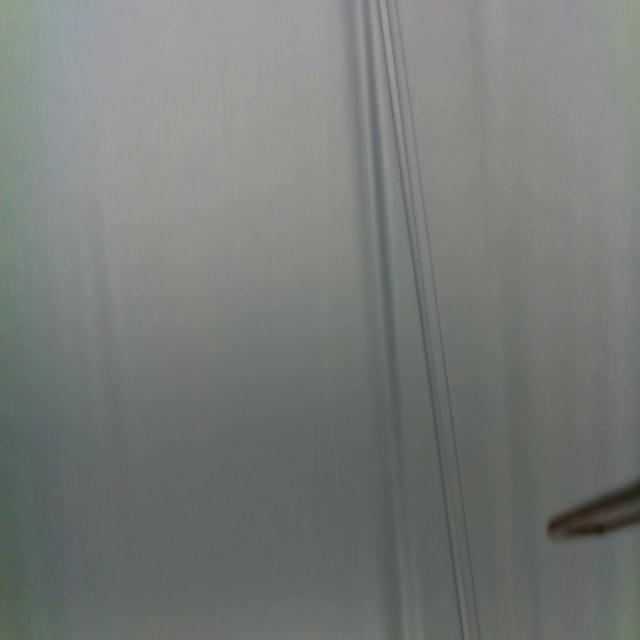crease: (378, 0, 482, 640)
